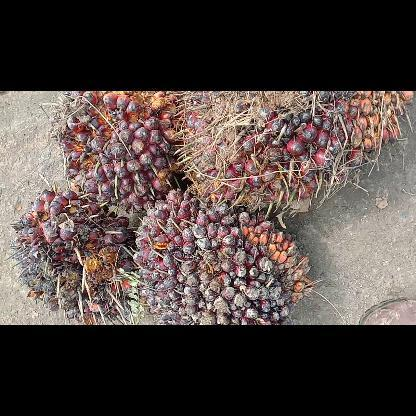Kurang masak: (169, 91, 415, 219), (132, 181, 318, 324)
TBS masak: (5, 186, 139, 324), (48, 91, 192, 217)
